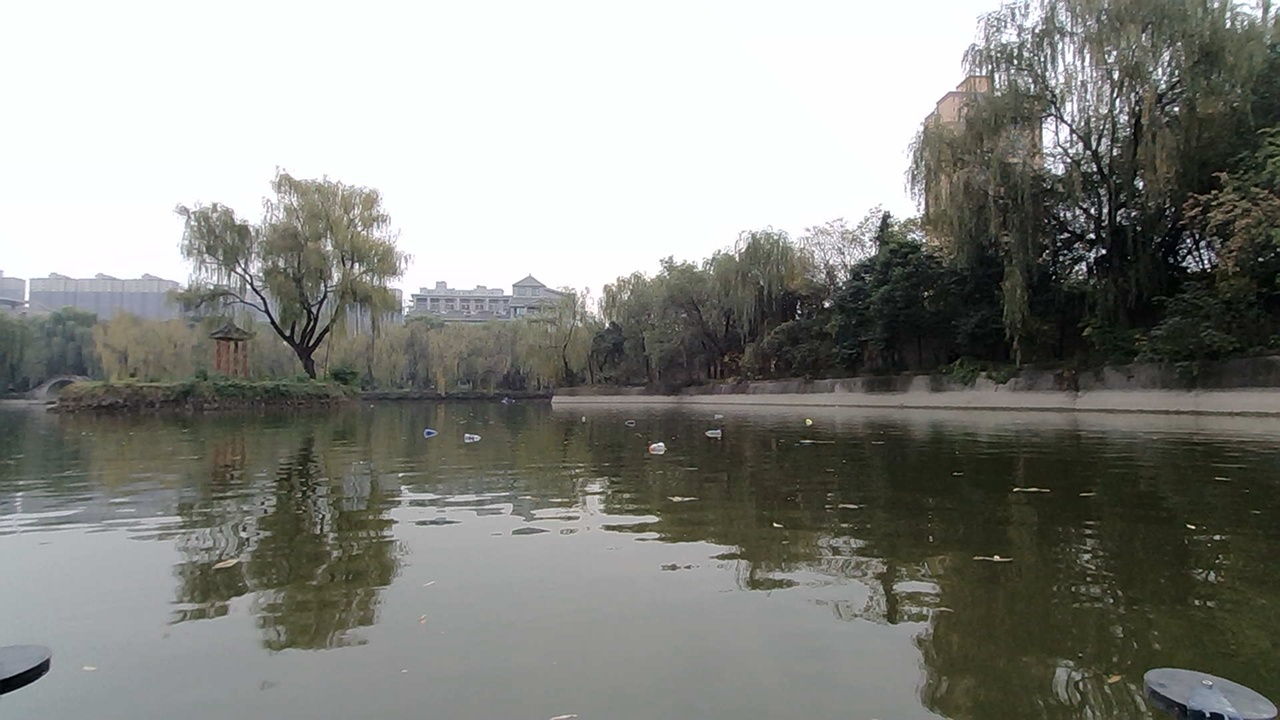bottle: (423, 416, 458, 448), (620, 406, 655, 434), (703, 415, 735, 444), (790, 407, 820, 435), (582, 406, 615, 431), (458, 421, 488, 448), (645, 439, 671, 458)
